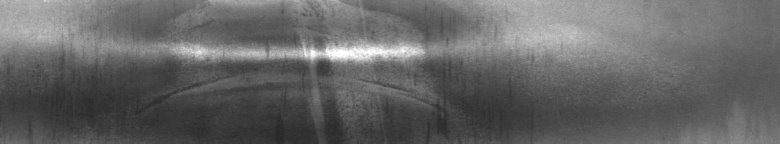ke: (148, 4, 452, 127)
